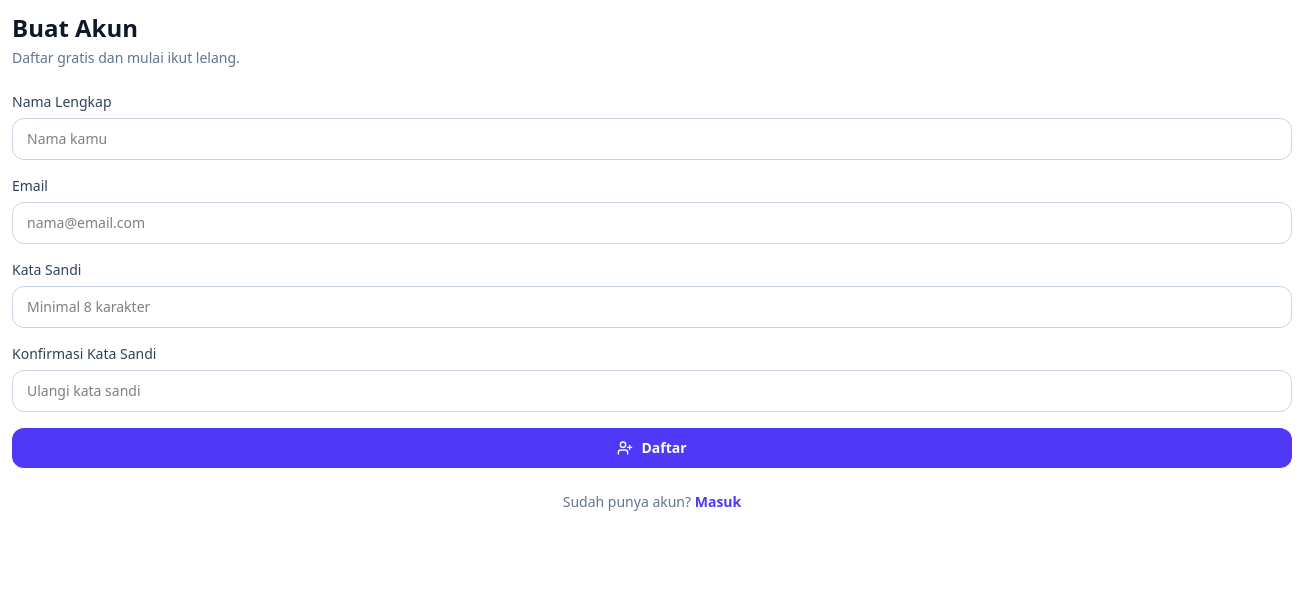
Scenario: RegisterPage › menampilkan semua pesan validasi
Type "a" into the field labelled "Nama Lengkap" at (652,139), box 12,118 -> 1292,160
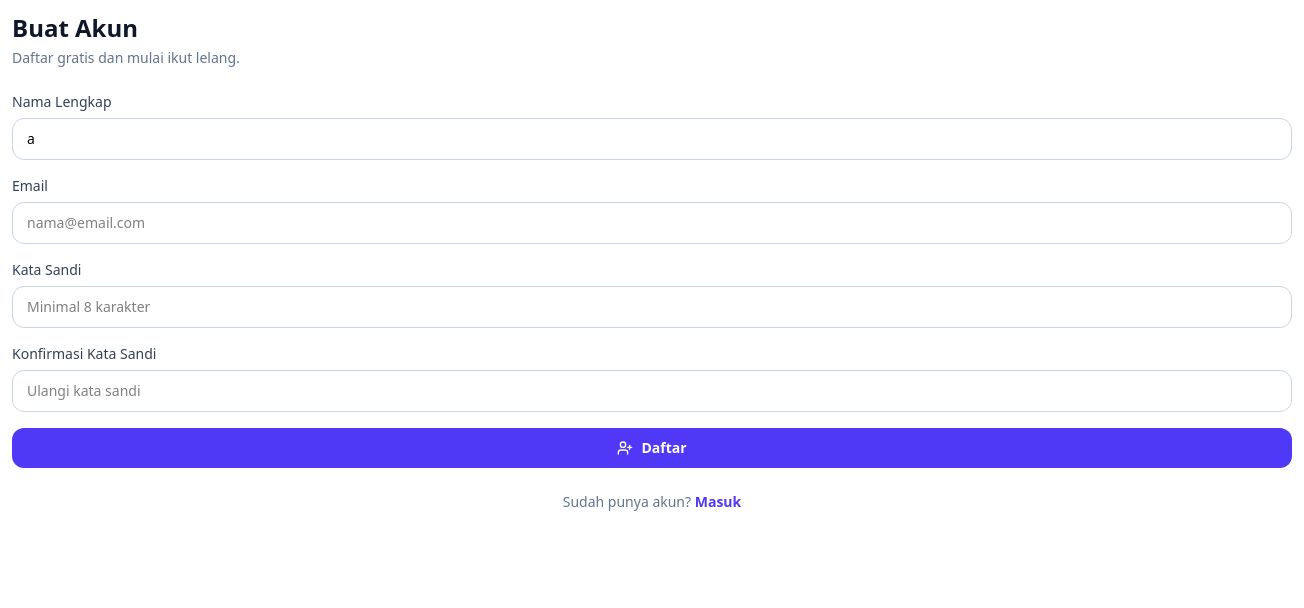
Type "x" into the field labelled "Email" at (652,223), box 12,202 -> 1292,244
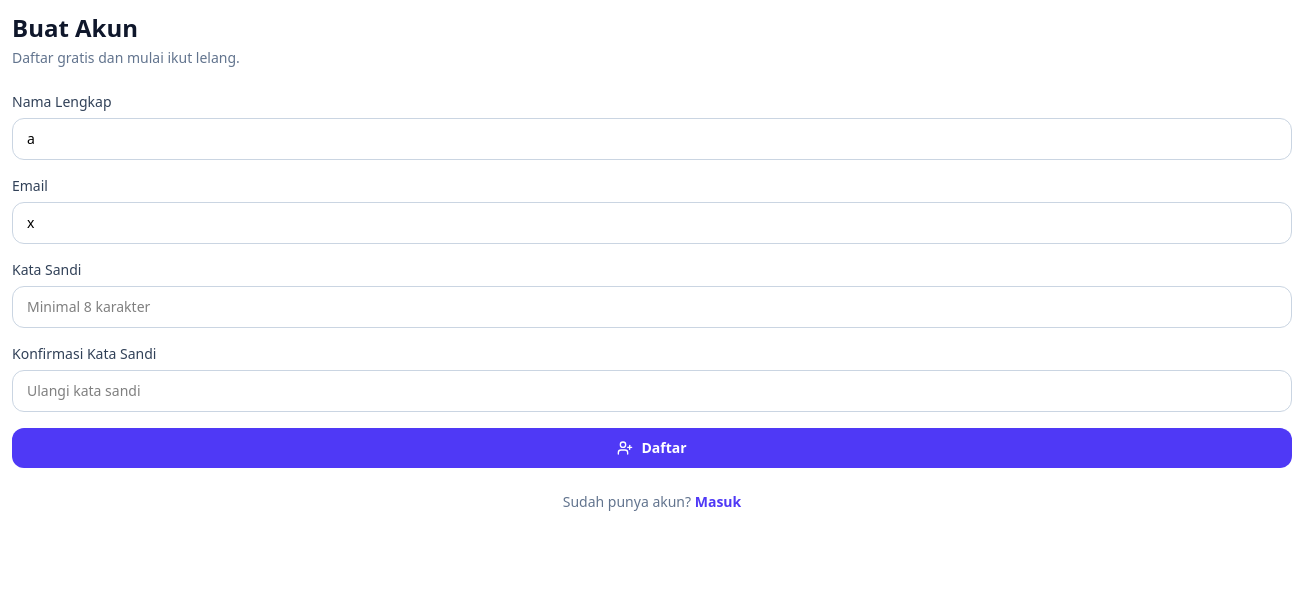
Type "123" into the password field labelled "Kata Sandi" at (652,307), box 12,286 -> 1292,328
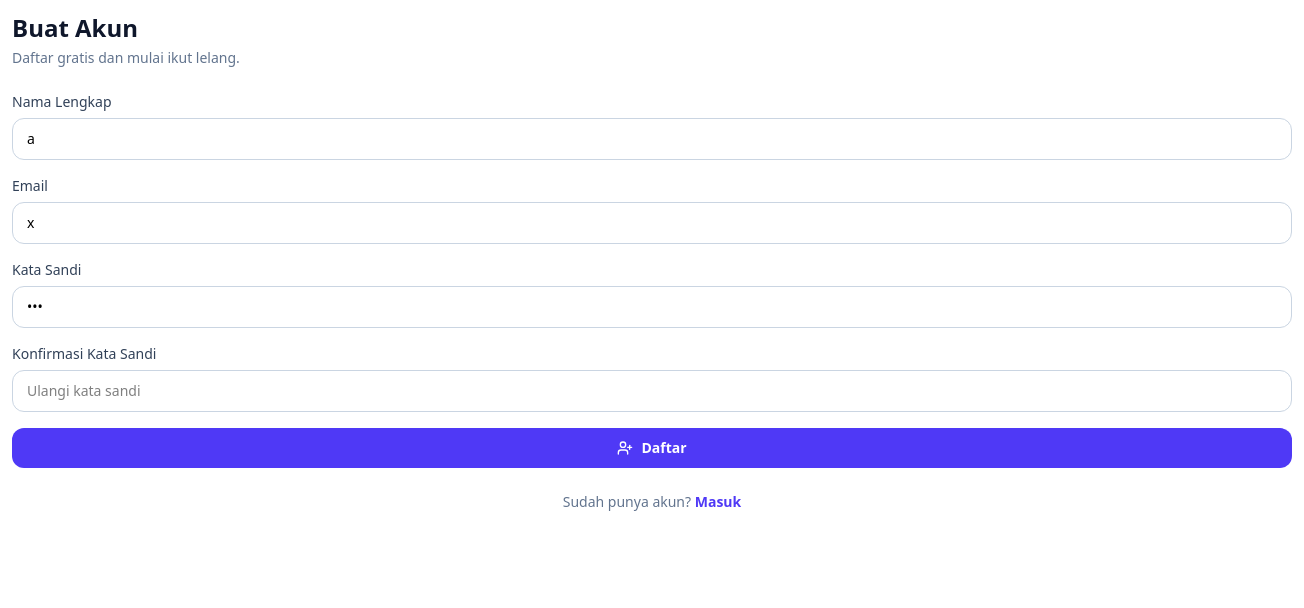
Type "456" into the password field labelled "Konfirmasi Kata Sandi" at (652,391), box 12,370 -> 1292,412
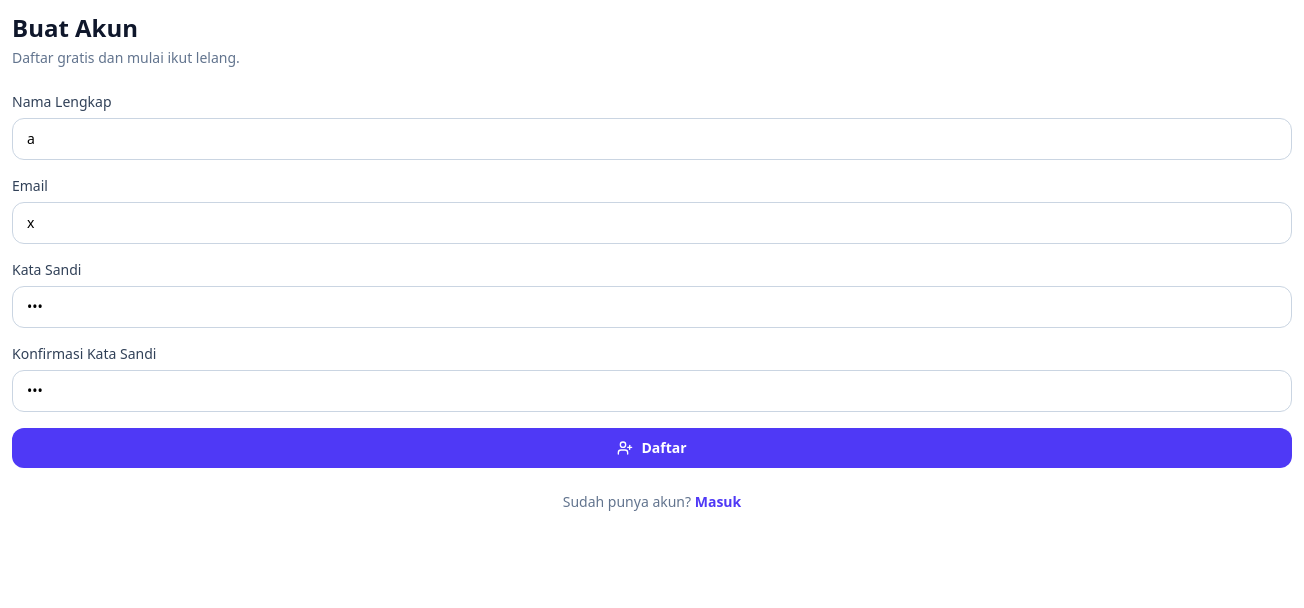
Submit the form
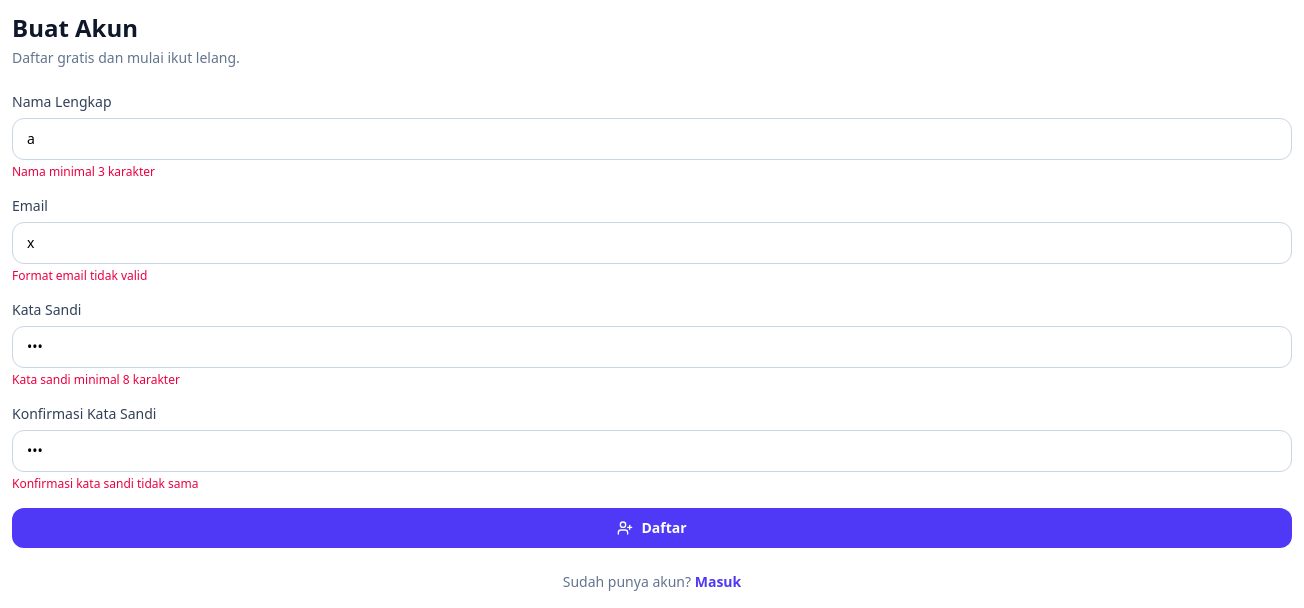
Check: the text "Nama minimal 3 karakter" is shown, box 12,163 -> 155,180
Check: the text "Format email tidak valid" is shown, box 12,267 -> 147,284
Check: the text "Kata sandi minimal 8 karakter" is shown, box 12,371 -> 180,388
